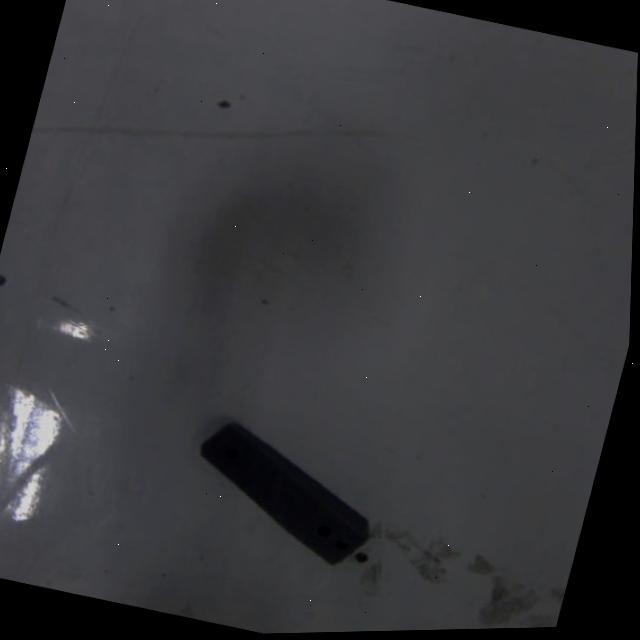grey: (177, 411, 392, 575)
head: (221, 443, 245, 461)
